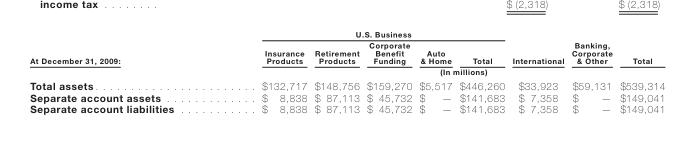table: (29, 28, 664, 114)
table column: (29, 28, 217, 114), (217, 28, 310, 114), (507, 28, 567, 114), (362, 28, 415, 114), (310, 28, 362, 114), (455, 28, 507, 114), (615, 28, 664, 114), (567, 28, 615, 114), (415, 28, 455, 114)
table column header: (29, 28, 664, 77)
table row: (29, 39, 664, 65), (29, 77, 664, 91), (29, 65, 664, 77), (29, 102, 664, 114), (29, 28, 664, 39), (29, 91, 664, 102)
table spanning cell: (29, 28, 217, 77), (217, 65, 664, 77), (217, 28, 507, 39), (507, 28, 567, 65), (615, 28, 664, 65), (567, 28, 615, 65)
